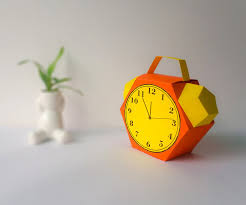alarm_clock: (116, 50, 214, 161), (116, 56, 214, 161)
